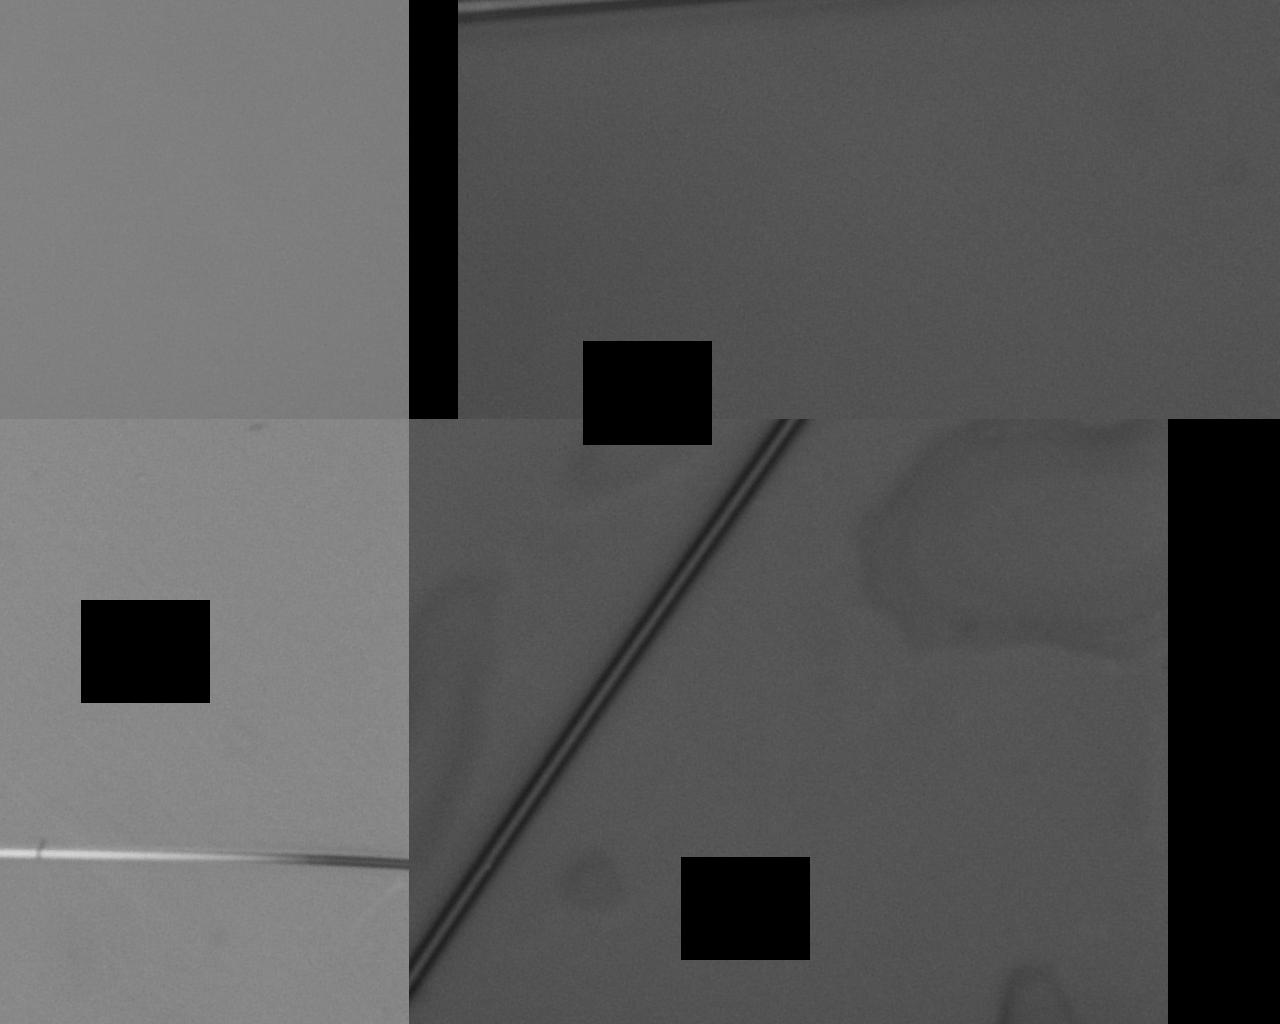fiber: (665, 443, 1280, 998), (0, 154, 665, 228), (0, 910, 665, 959)
